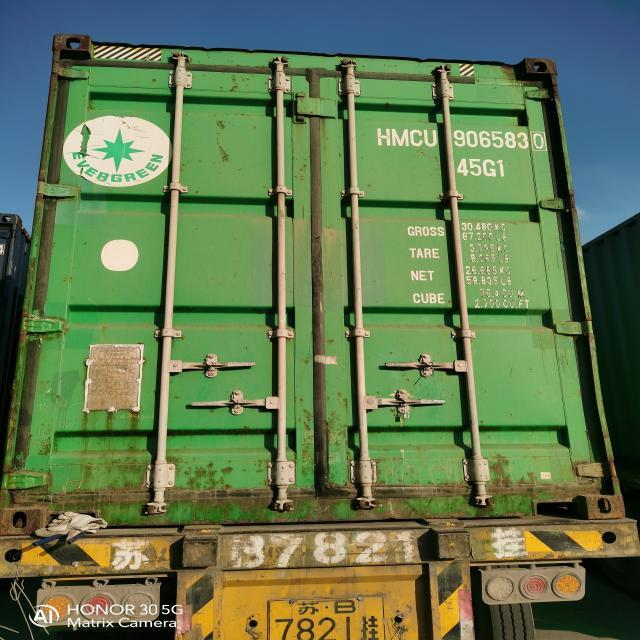ISO: (456, 156, 506, 180)
container_number: (384, 128, 548, 150)
